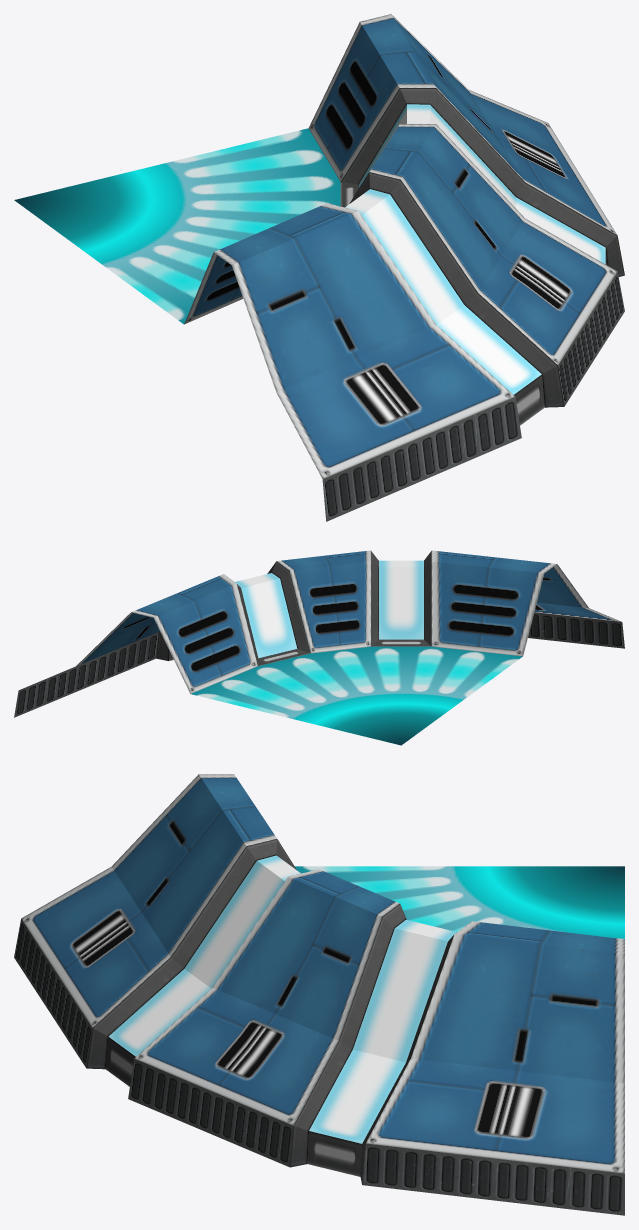
Rendered from Teleport_Base_01.FBX.
3 views of the same model, one above another, from view 1: azimuth 30°, elevation 25°; view 2: azimuth 150°, elevation 25°; view 3: azimuth 270°, elevation 25° (orthographic). The views are drawn at different scales.
Parts seen in each view (by area): view 1: Teleport_Base_01, Lights; view 2: Teleport_Base_01, Lights; view 3: Teleport_Base_01, Lights.
Part boxes in pixels (left/top/right/bottom): Teleport_Base_01: left=184, top=14, right=624, bottom=521; Lights: left=14, top=104, right=605, bottom=394; Teleport_Base_01: left=14, top=550, right=624, bottom=717; Lights: left=191, top=560, right=522, bottom=745; Teleport_Base_01: left=14, top=774, right=624, bottom=1215; Lights: left=108, top=855, right=624, bottom=1143.
Bounding box in the file's own units: 25.62 × 8.48 × 25.62.
